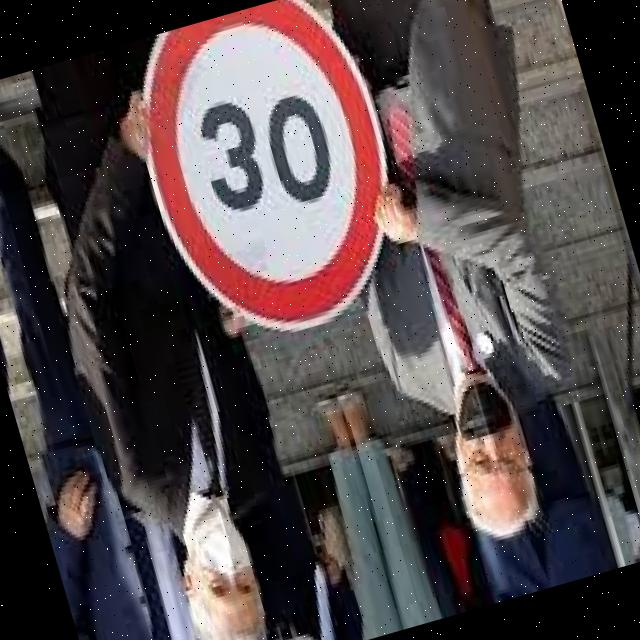speed_limit_30: (109, 0, 438, 363)
